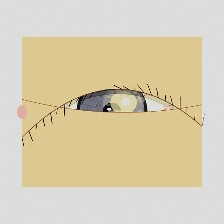corneal_ulcer: (102, 85, 145, 120)
